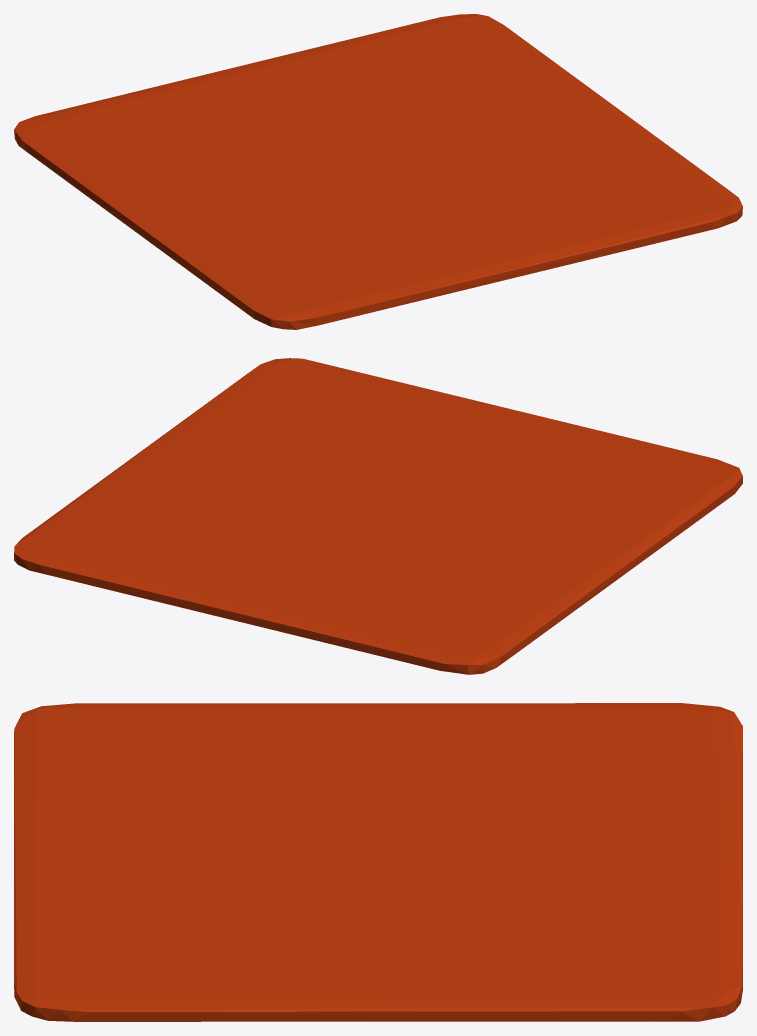
The model's file is RinsingCloth.fbx.
3 views of the same model, one above another, from view 1: azimuth 30°, elevation 25°; view 2: azimuth 150°, elevation 25°; view 3: azimuth 270°, elevation 25° (orthographic). The views are drawn at different scales.
Parts seen in each view (by area): view 1: RinsingClothLowPoly; view 2: RinsingClothLowPoly; view 3: RinsingClothLowPoly.
Part boxes in pixels (x1,y1,x2,y2): RinsingClothLowPoly: (14,14,742,329); RinsingClothLowPoly: (14,358,742,674); RinsingClothLowPoly: (14,703,742,1021).
Bounding box in the file's own units: 10 × 0.2313 × 10.
